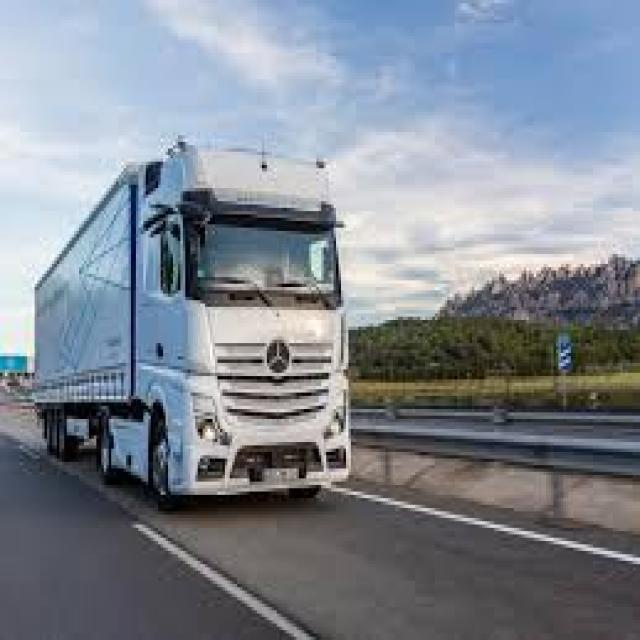Heavy Duty Truck: (32, 145, 358, 515)
